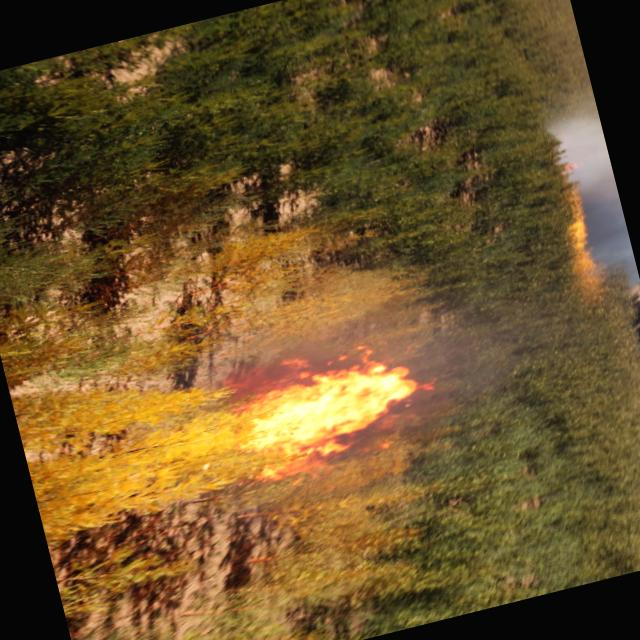fire: (226, 321, 462, 492)
smoke: (227, 259, 538, 492), (538, 90, 640, 292)
